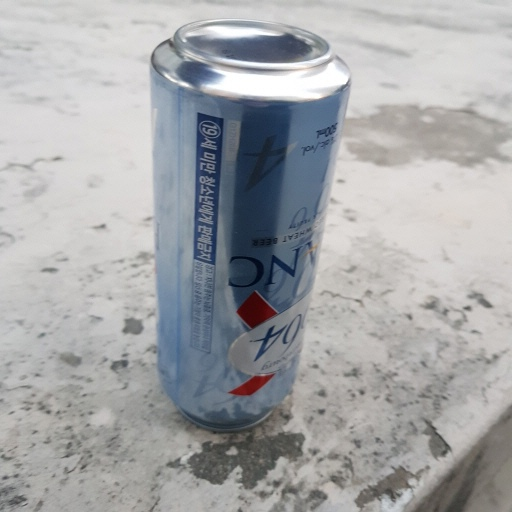Metal_0: (147, 14, 354, 436)
